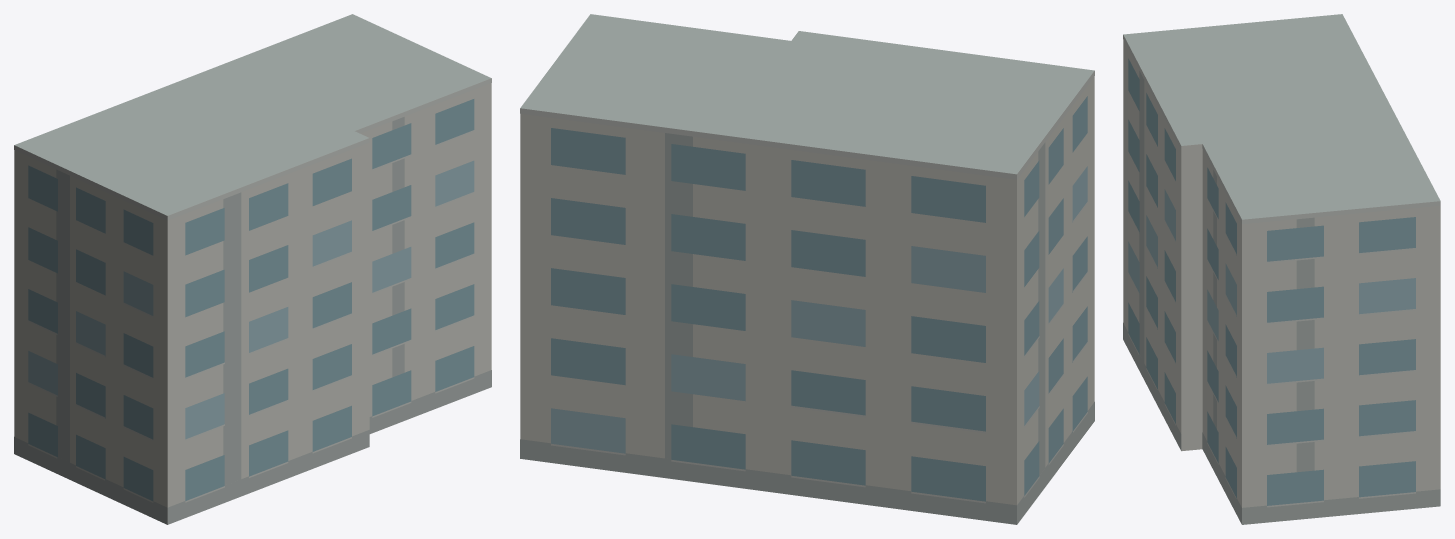
File: survey-upis-32944801.glb
The picture shows the model from 3 angles, left to right: view 1: azimuth 30°, elevation 25°; view 2: azimuth 150°, elevation 25°; view 3: azimuth 270°, elevation 25°; orthographic projection. The views are drawn at different scales.
Visible parts, largest first — view 1: survey-upis-32944801.tmp; view 2: survey-upis-32944801.tmp; view 3: survey-upis-32944801.tmp.
Boxes of the visible parts, bbox=[...] form: survey-upis-32944801.tmp: bbox=[14, 14, 491, 524]; survey-upis-32944801.tmp: bbox=[520, 14, 1094, 524]; survey-upis-32944801.tmp: bbox=[1123, 14, 1440, 524].
Size of the model in its own units: 22.85 by 15.8 by 14.91.
